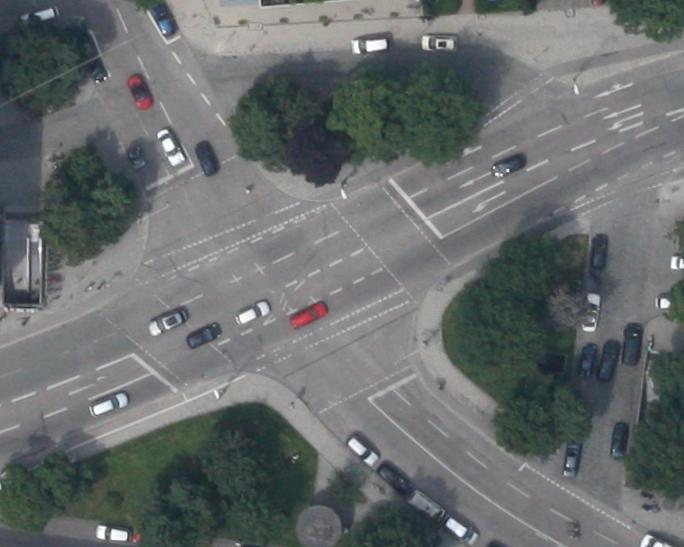car: (374, 460, 414, 497), (144, 306, 188, 338), (440, 512, 479, 547), (154, 126, 186, 168), (408, 490, 447, 524), (288, 300, 329, 330), (88, 390, 130, 418), (596, 338, 622, 382), (232, 299, 270, 327), (20, 3, 60, 29), (489, 152, 526, 180), (620, 322, 644, 365), (125, 73, 152, 111), (149, 2, 178, 37), (185, 322, 222, 349), (192, 140, 218, 177), (346, 436, 378, 466), (609, 420, 631, 460), (350, 34, 390, 54), (582, 292, 600, 334), (562, 441, 581, 478), (589, 233, 608, 269), (94, 524, 131, 542), (421, 34, 458, 51), (86, 57, 109, 84), (578, 345, 596, 378), (127, 146, 146, 169)
